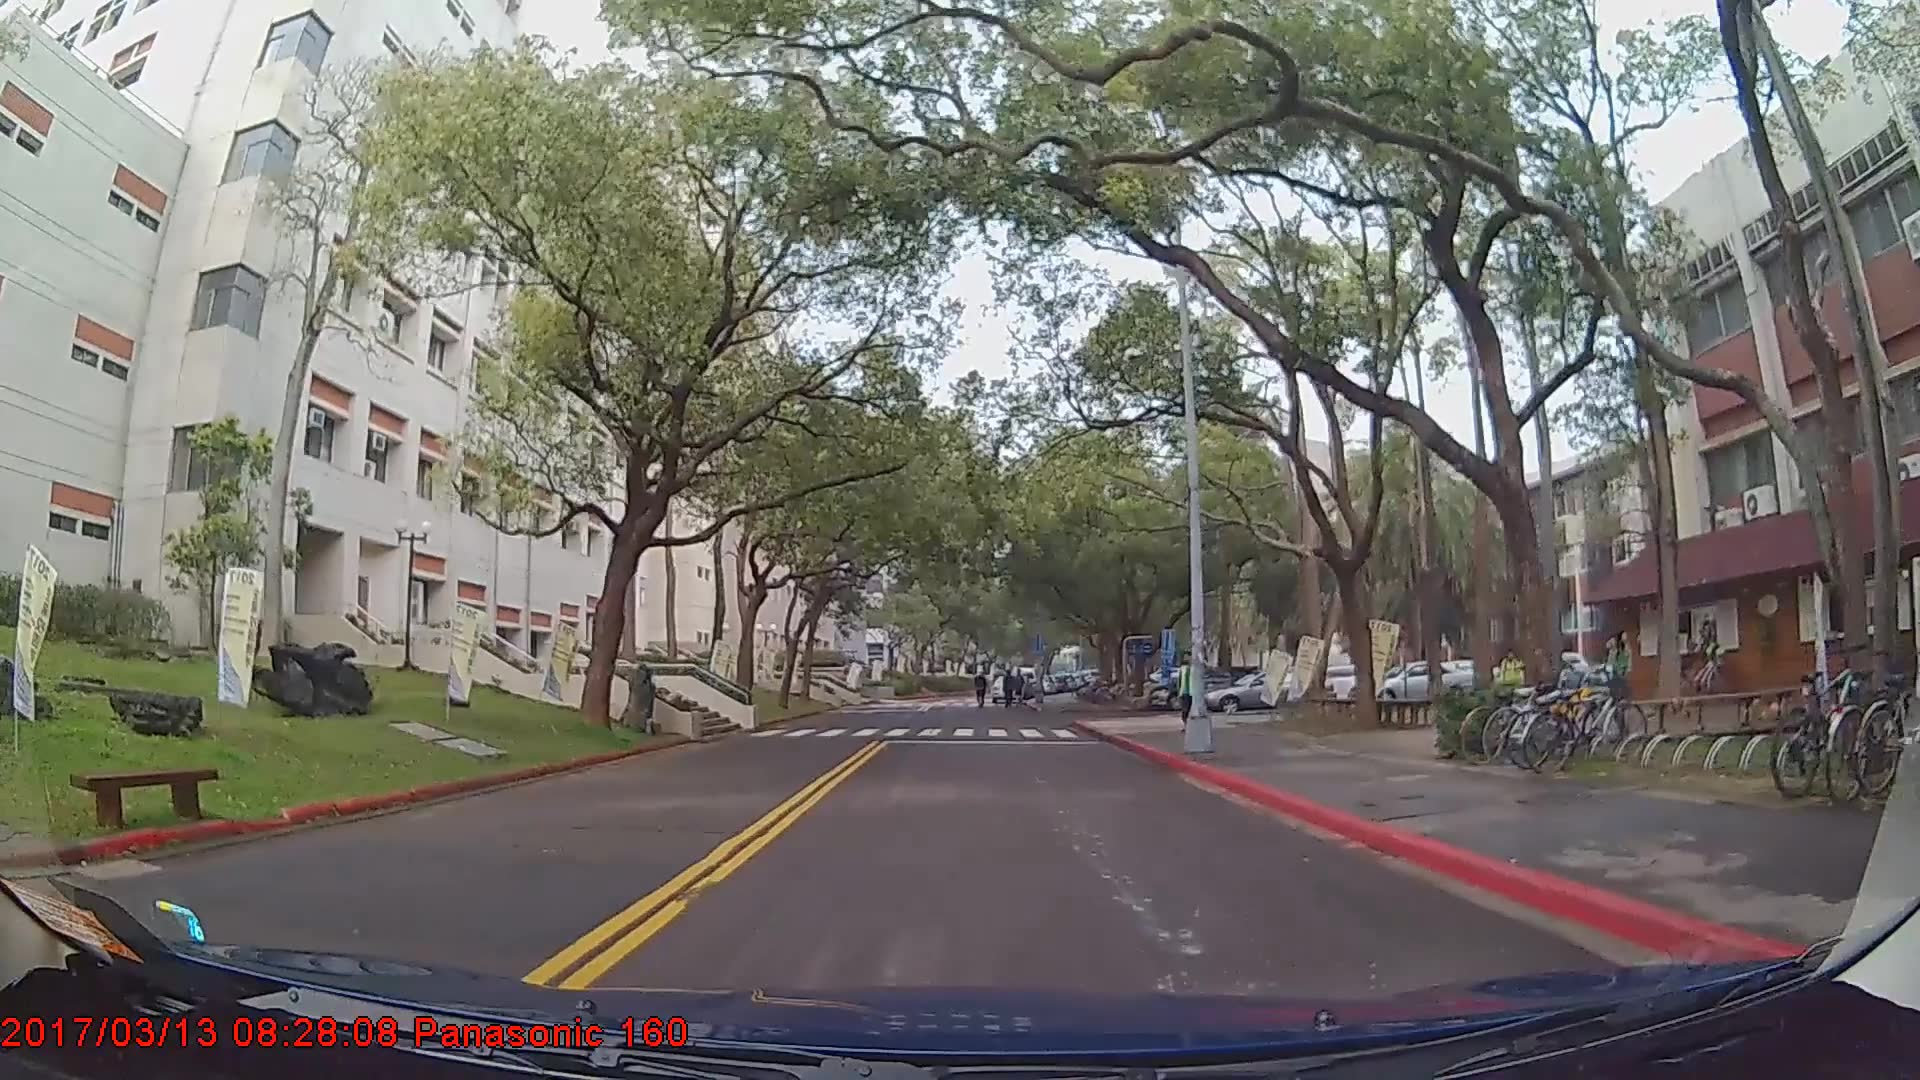pedestrian: (1501, 647, 1525, 714)
vehicle: (1203, 670, 1333, 715), (1346, 659, 1473, 704)
